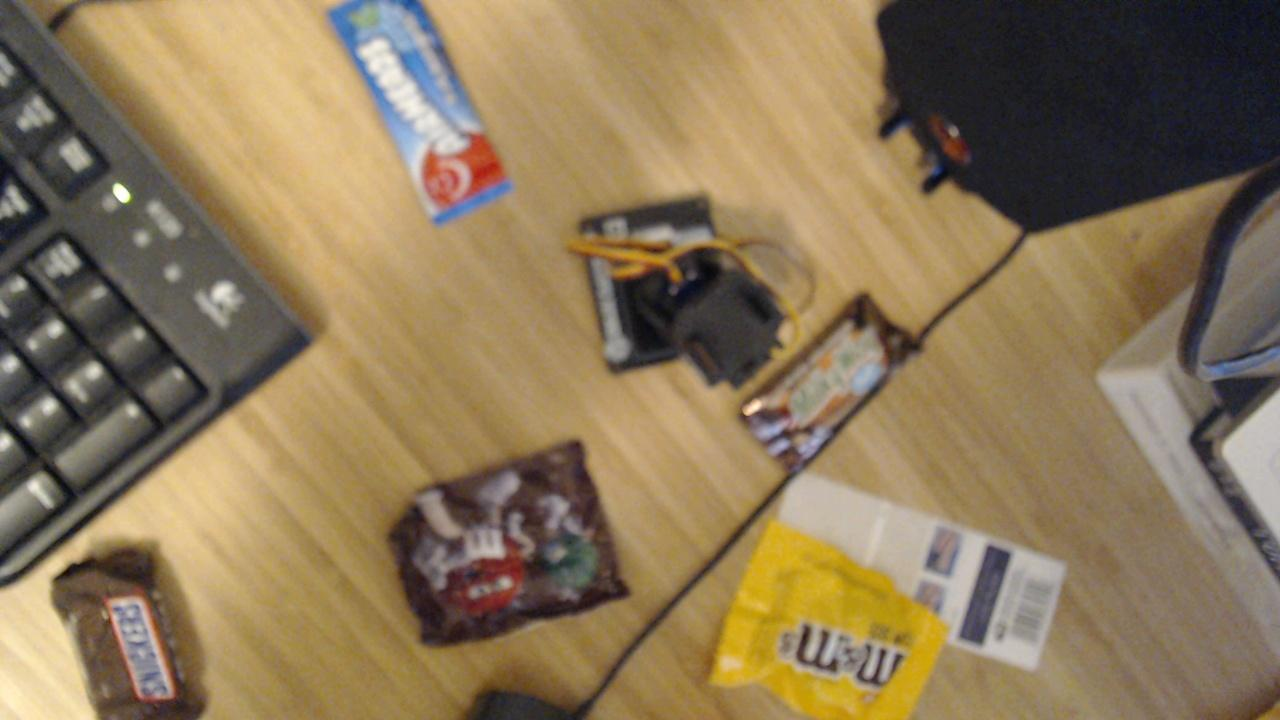MM_regular: (387, 440, 628, 646)
MM_yellow: (708, 518, 950, 718)
Snickers: (46, 548, 206, 720)
airheads: (323, 0, 510, 225)
milky_way: (736, 293, 913, 472)
